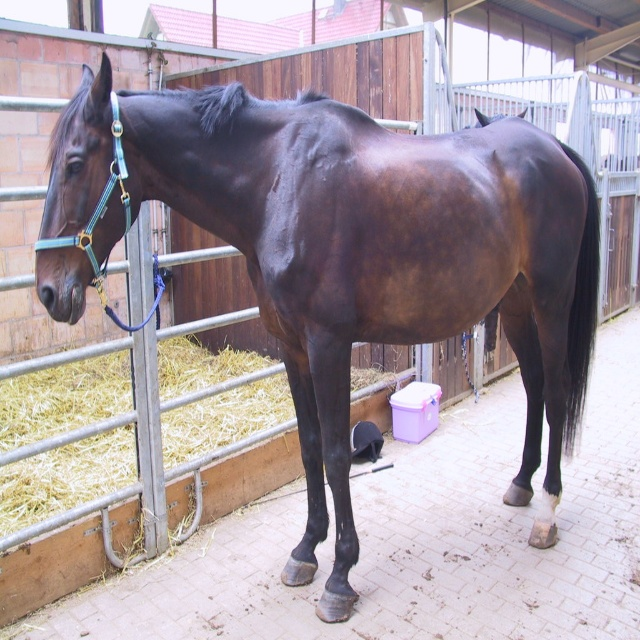Horse: (34, 51, 601, 624)
